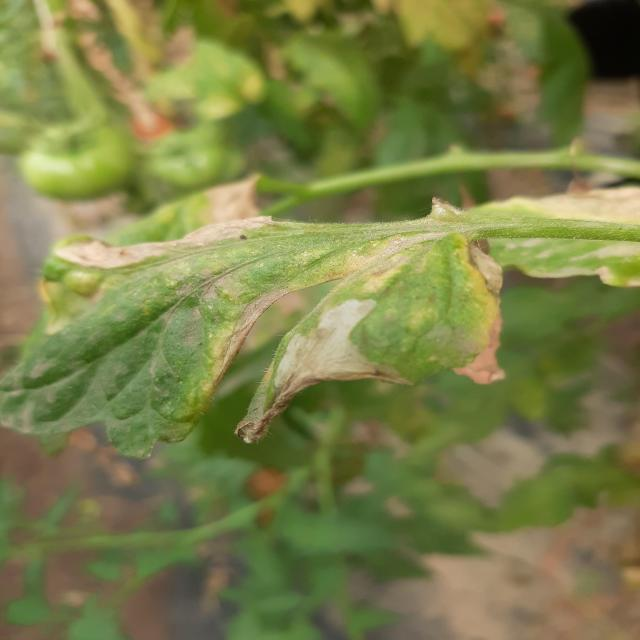Tuta absoluta: (242, 291, 407, 432)
